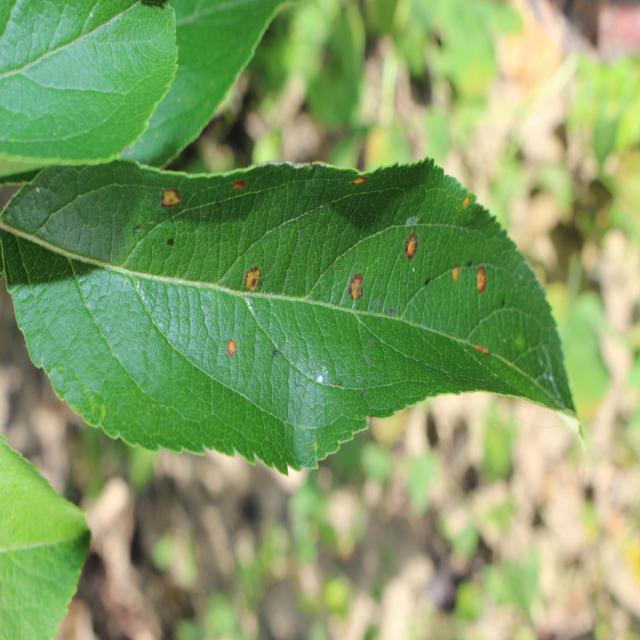Rust: (340, 255, 372, 311), (242, 250, 266, 314), (398, 210, 421, 269), (152, 177, 180, 225), (345, 163, 371, 205), (450, 182, 478, 219), (472, 260, 492, 310), (223, 172, 250, 208), (447, 251, 464, 301), (215, 331, 239, 361), (467, 341, 497, 364)
